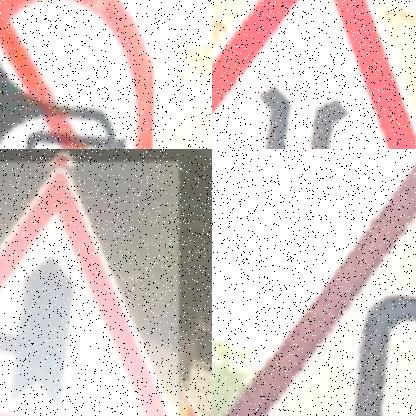Bridge Ahead: (212, 0, 416, 149)
Cross Roads: (0, 162, 170, 416)
U-Turn: (222, 156, 416, 416)
